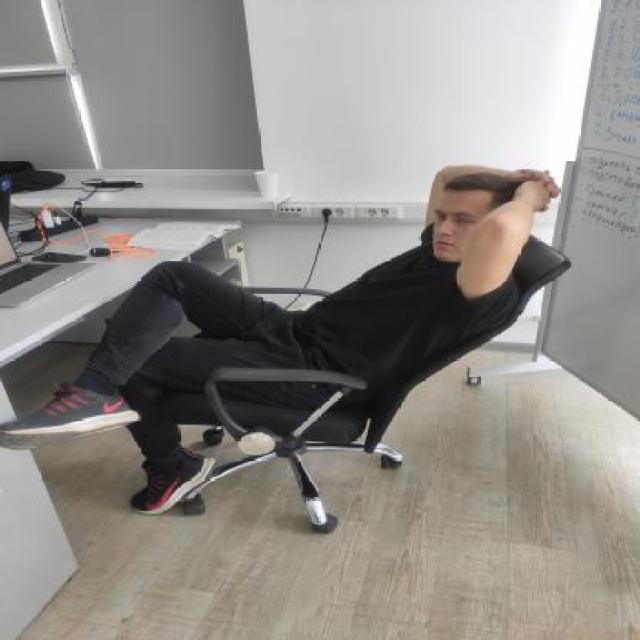chair: (137, 220, 568, 535)
